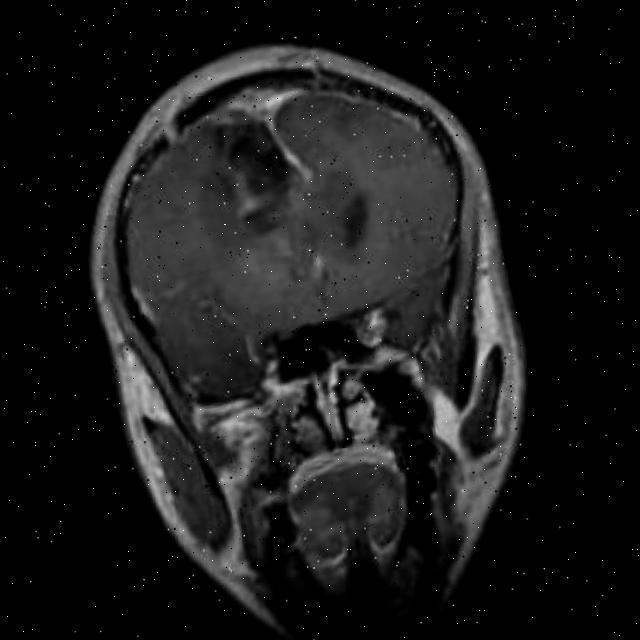MCI: (185, 107, 466, 259)
